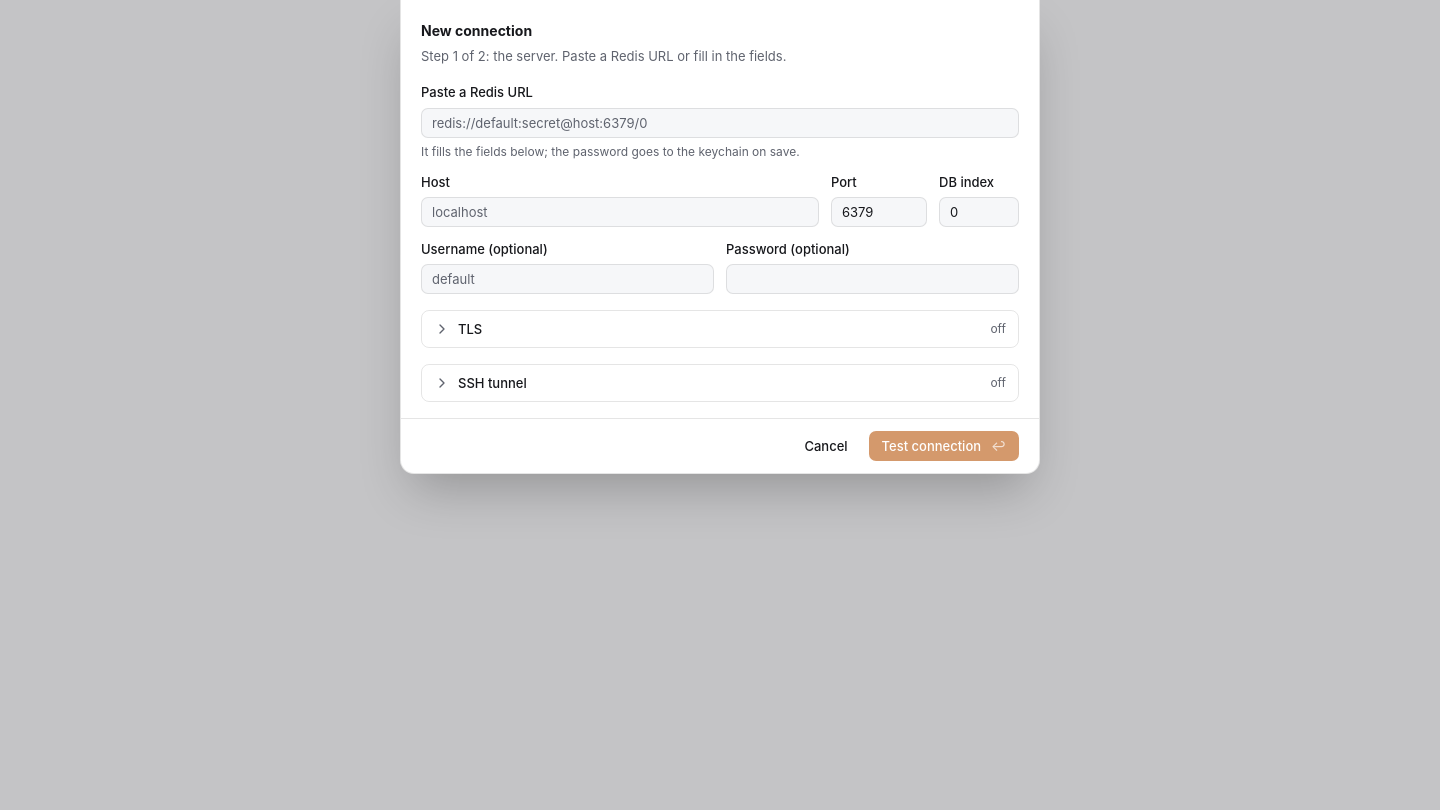
it: ConnectionSheet: step 2, what the test found › a refused connection says what to check, with the raw message under it
The width and height of the screenshot is (1440, 810).
Type "h" into the field labelled "Host" at [620, 212], box [421, 197, 819, 227]
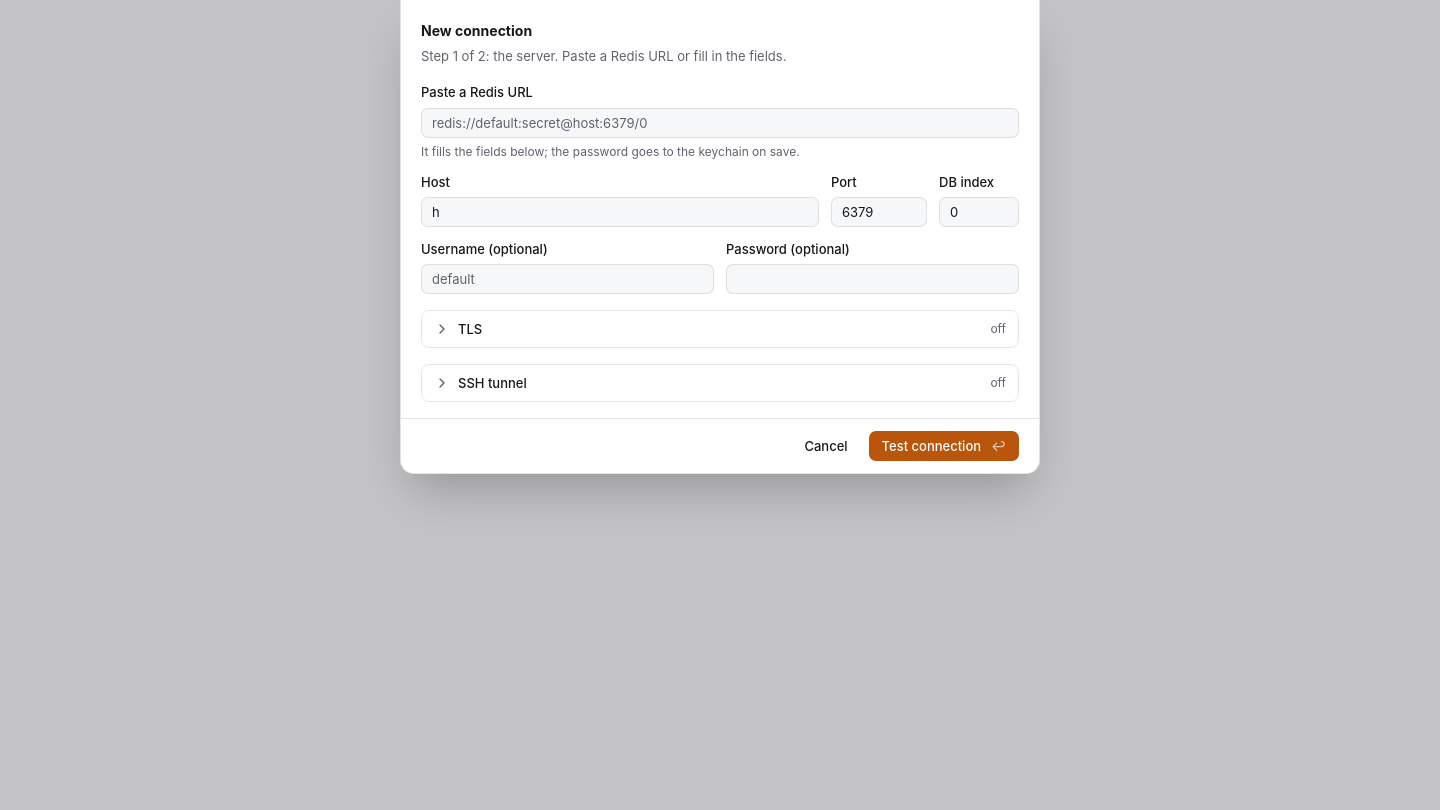
Click the button "Test connection ↩" at [944, 446], box [868, 431, 1019, 461]
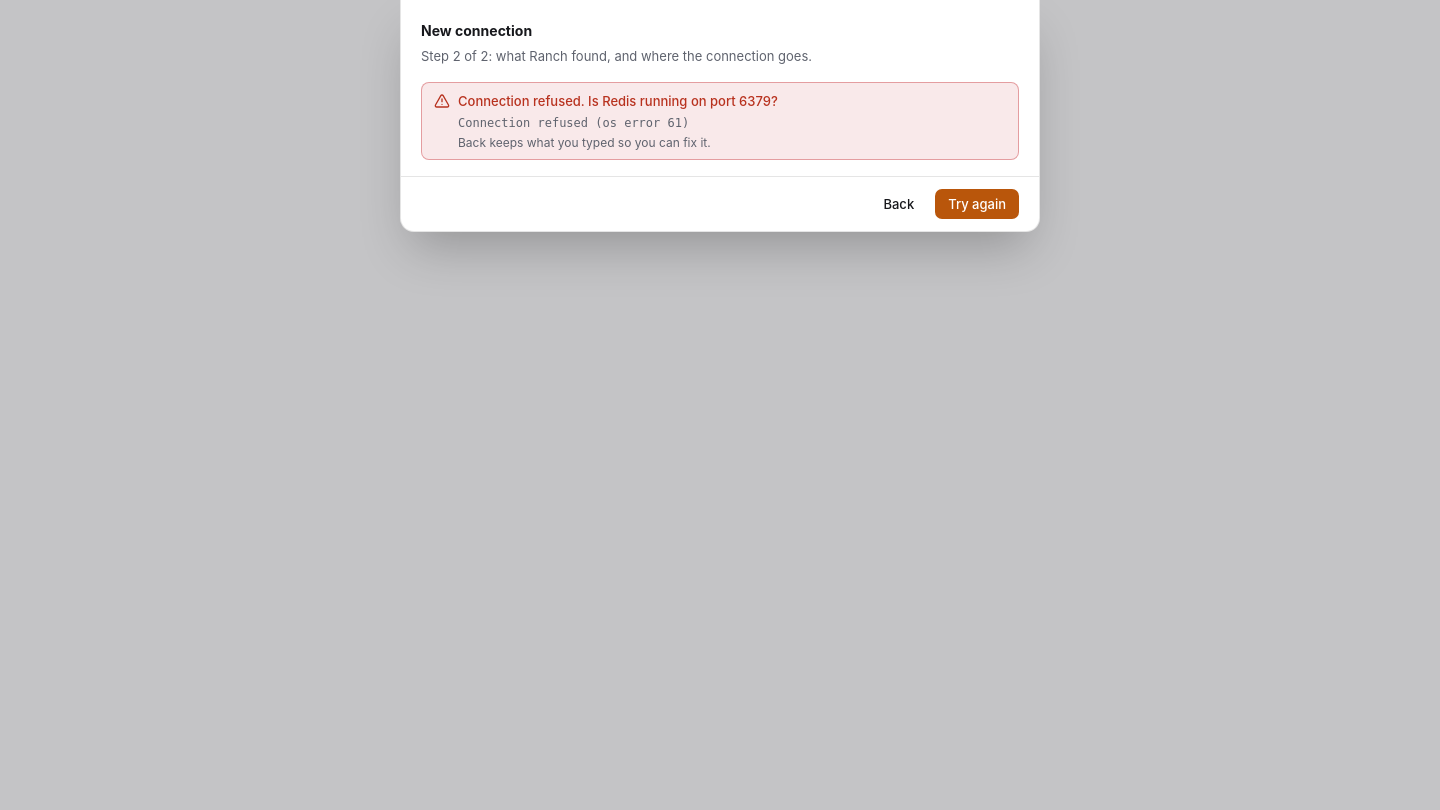
Now the text "Connection refused. Is Redis running on port 6379?" is shown, box [458, 93, 778, 109]
Now the text "Connection refused (os error 61)" is shown, box [458, 116, 689, 130]
